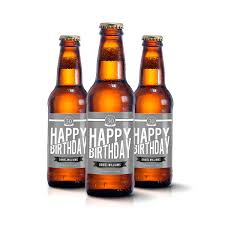glass_bottle: (39, 18, 185, 205)
